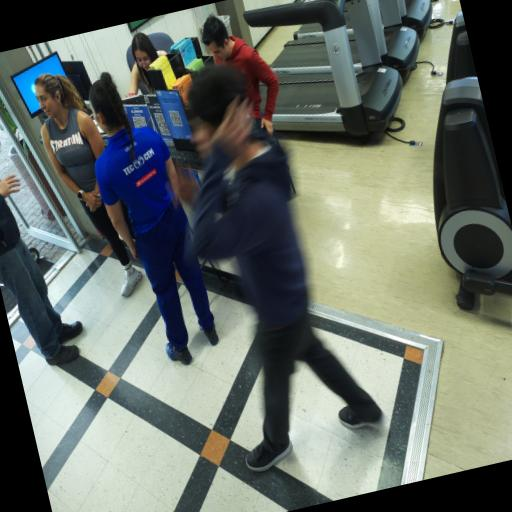person: (179, 65, 381, 471), (89, 72, 218, 364), (35, 74, 142, 296), (0, 175, 82, 365), (202, 15, 279, 135), (127, 33, 166, 97)
